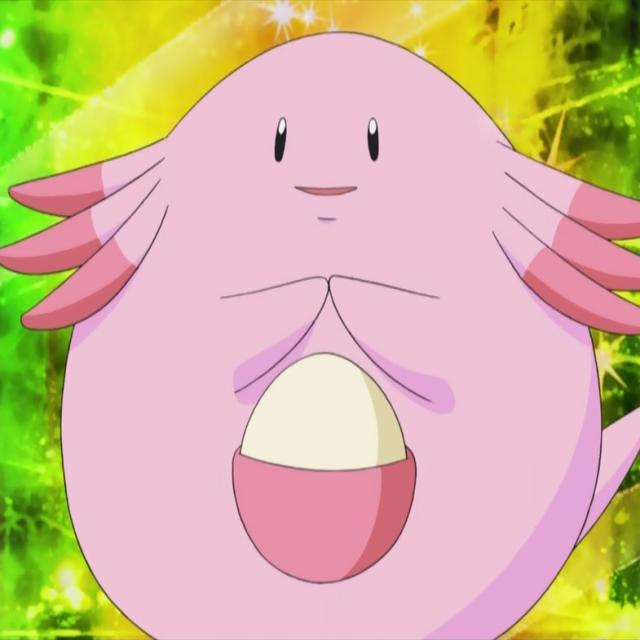Chansey: (91, 50, 640, 640)
